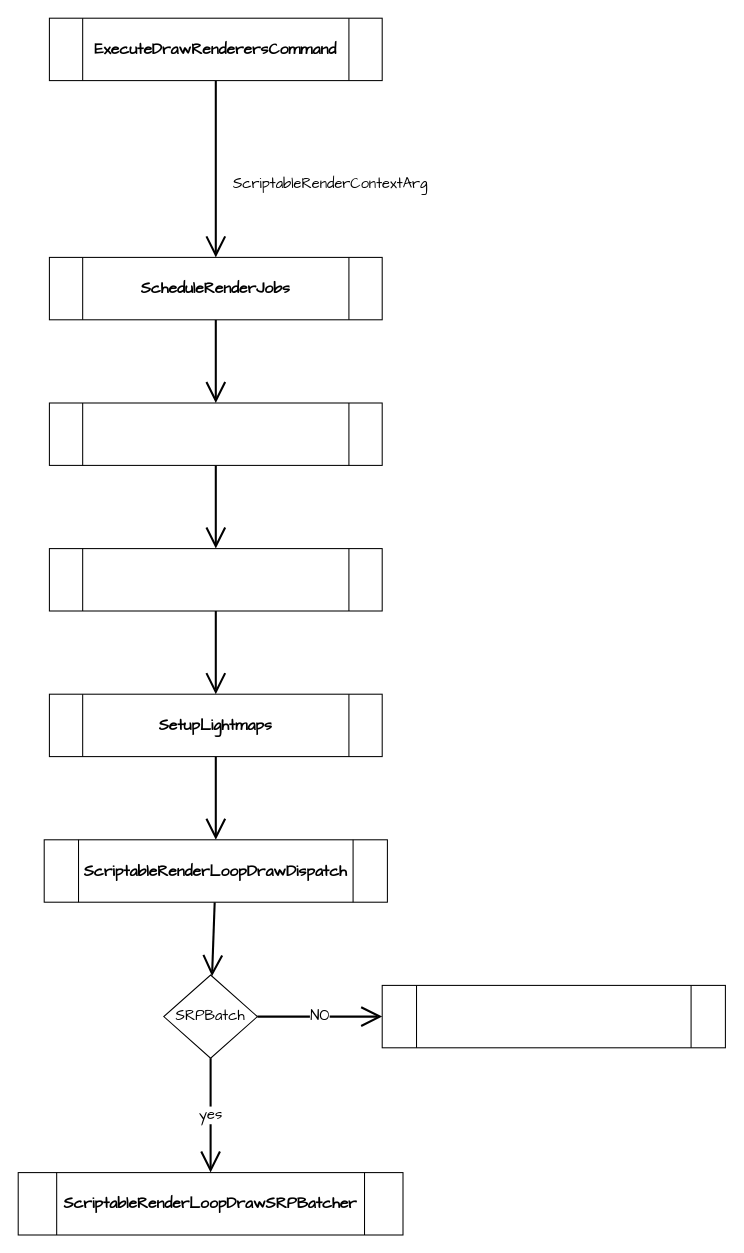
This 744x1253 diagram has some shape labels left out. Each missing label, with the centre of its shape:
GfxDevice->ExecuteAsync: (x=215, y=433)
ScriptableRenderLoopDraw: (x=553, y=1016)
ScriptableRenderLoopJob: (x=215, y=579)
